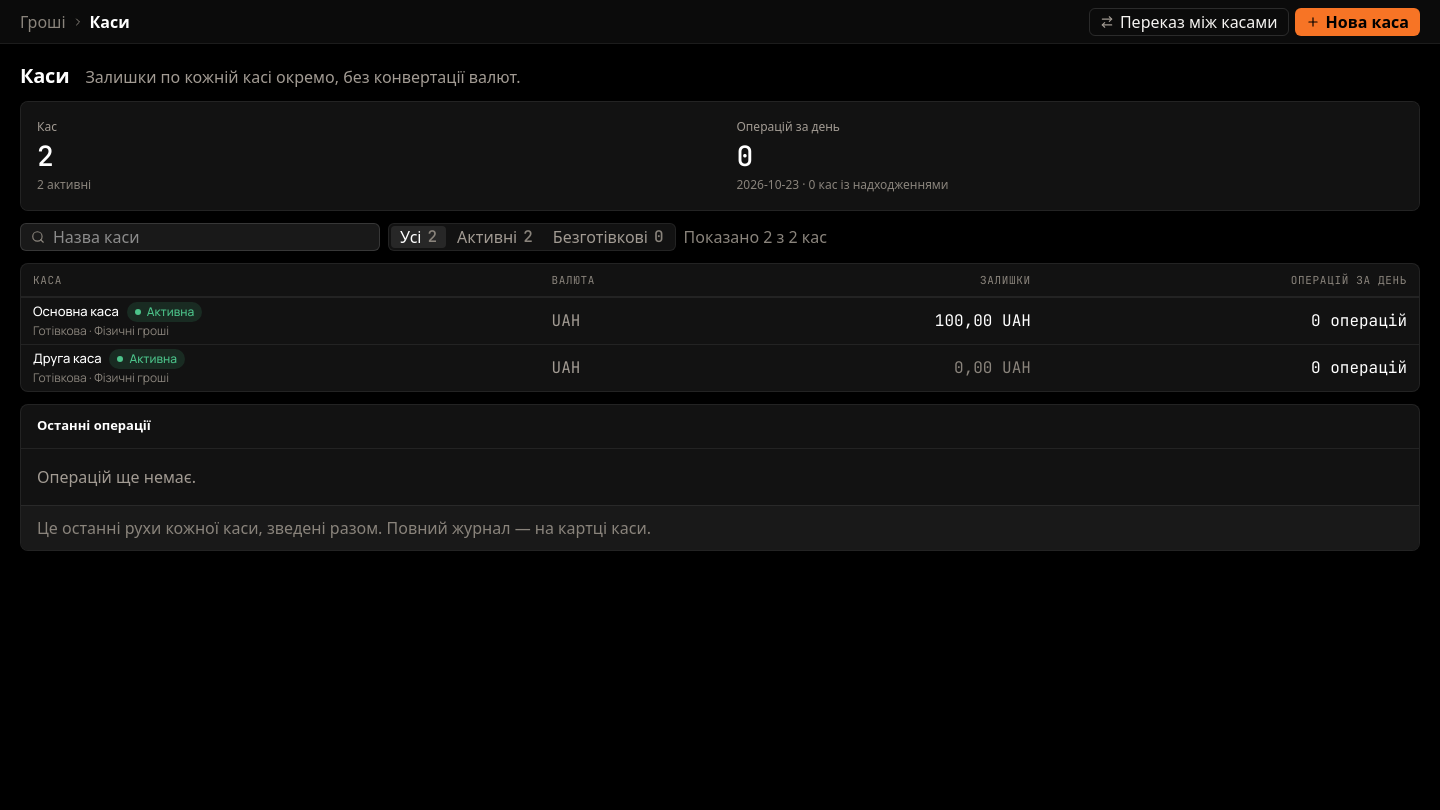
Scenario: requires equal amounts when a transfer does not convert currency
Step 1. Click the button "Переказ між касами" → (1189, 22), box [1089,8,1288,36]
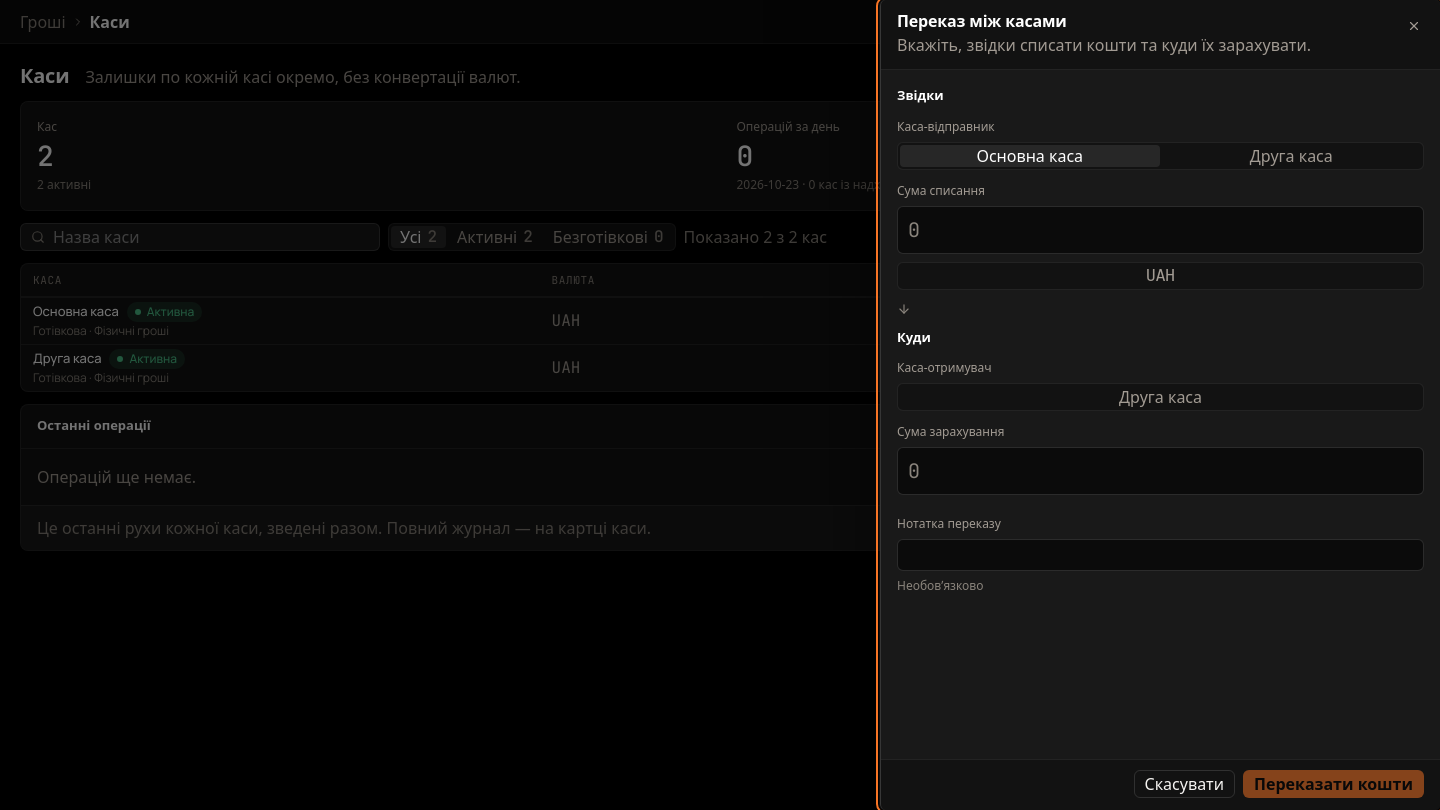
Step 2. Click the radio button labelled "Друга каса" below "Каса-отримувач" → (1202, 403), box [1119,386,1285,420]
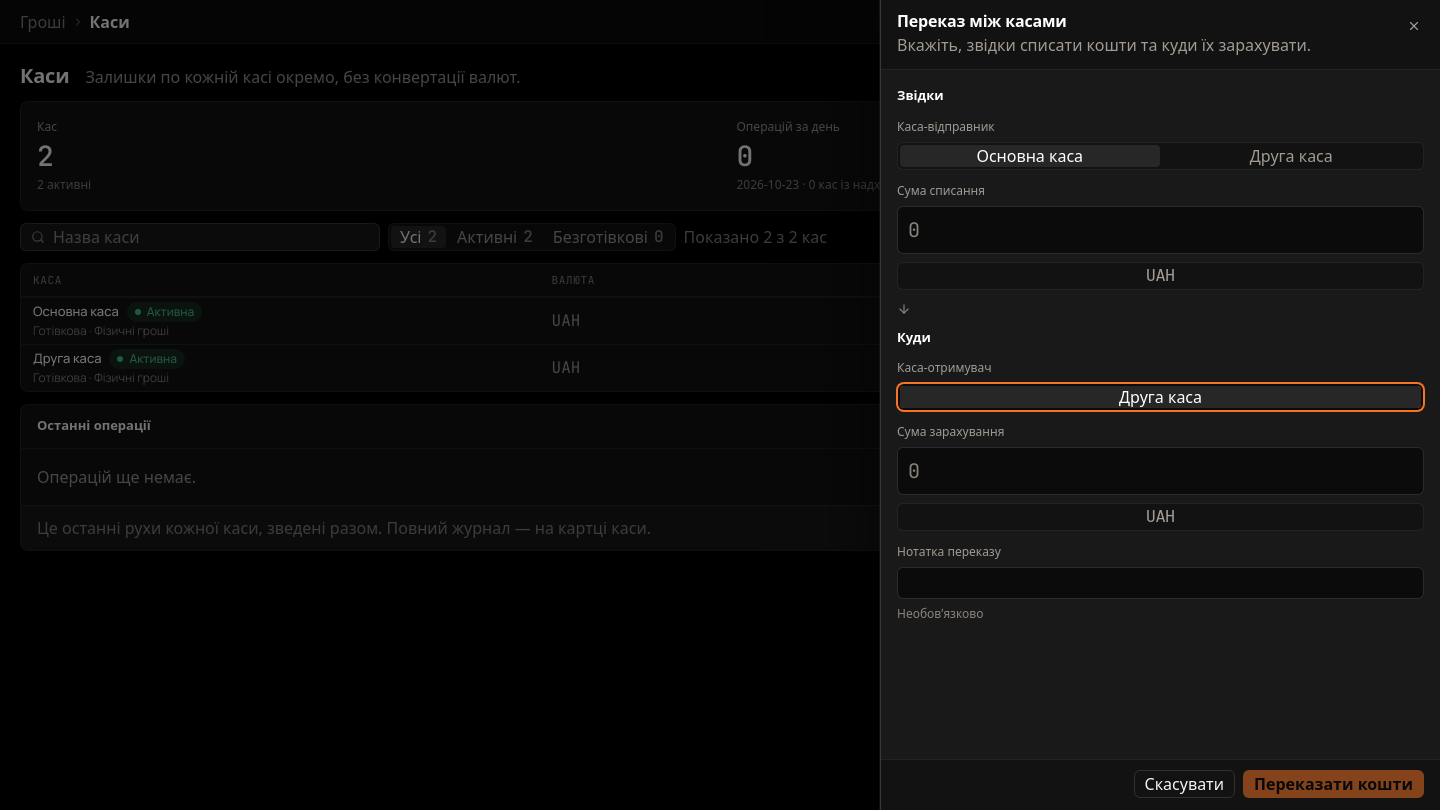
Step 3. Click the radio button labelled "UAH" below "Сума списання" → (1160, 275), box [1146,266,1175,285]
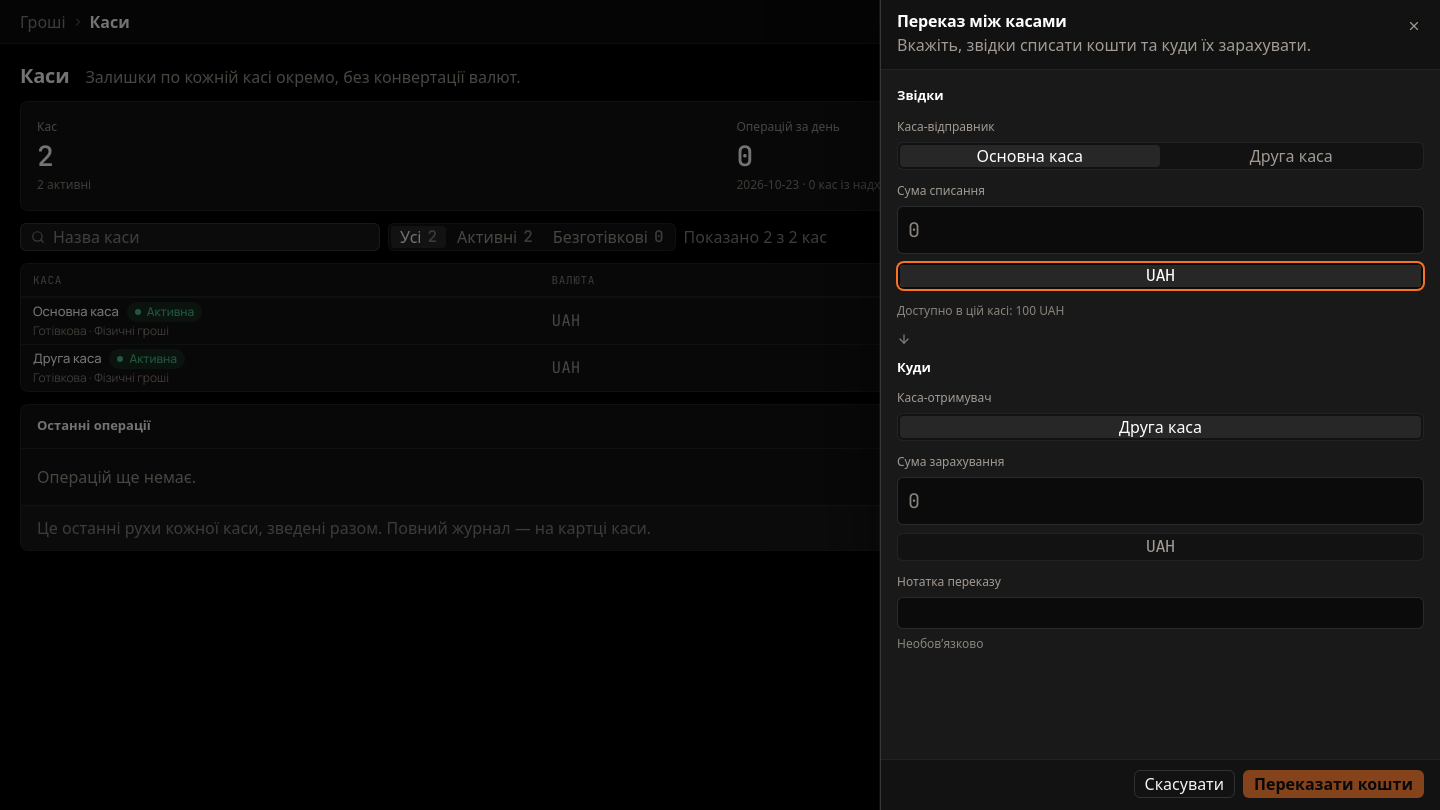
Step 4. Click the radio button labelled "UAH" below "Сума зарахування" → (1160, 547), box [1146,537,1175,556]
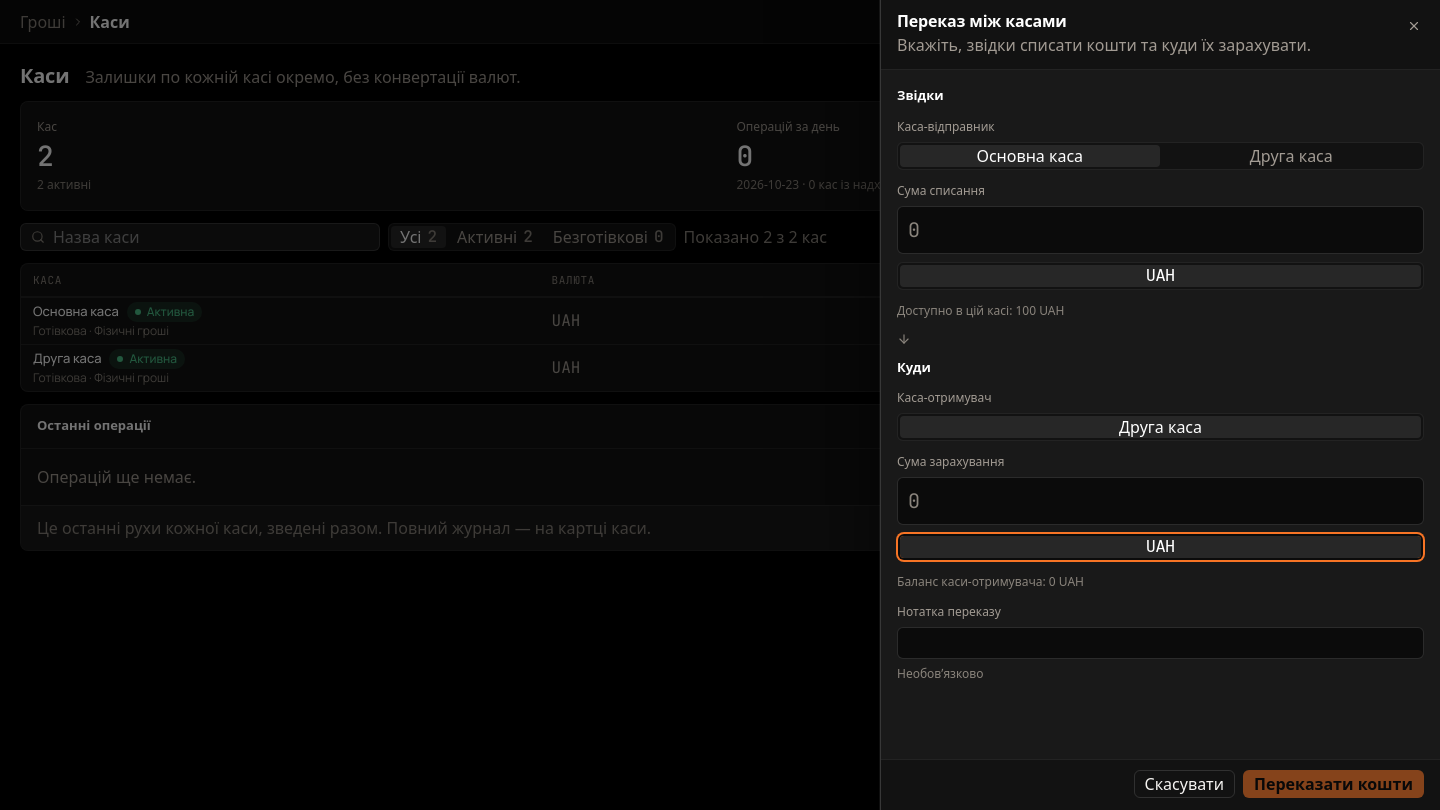
Step 5. Type "50" into the number field labelled "Сума списання" → (1160, 230), box [897,206,1424,254]
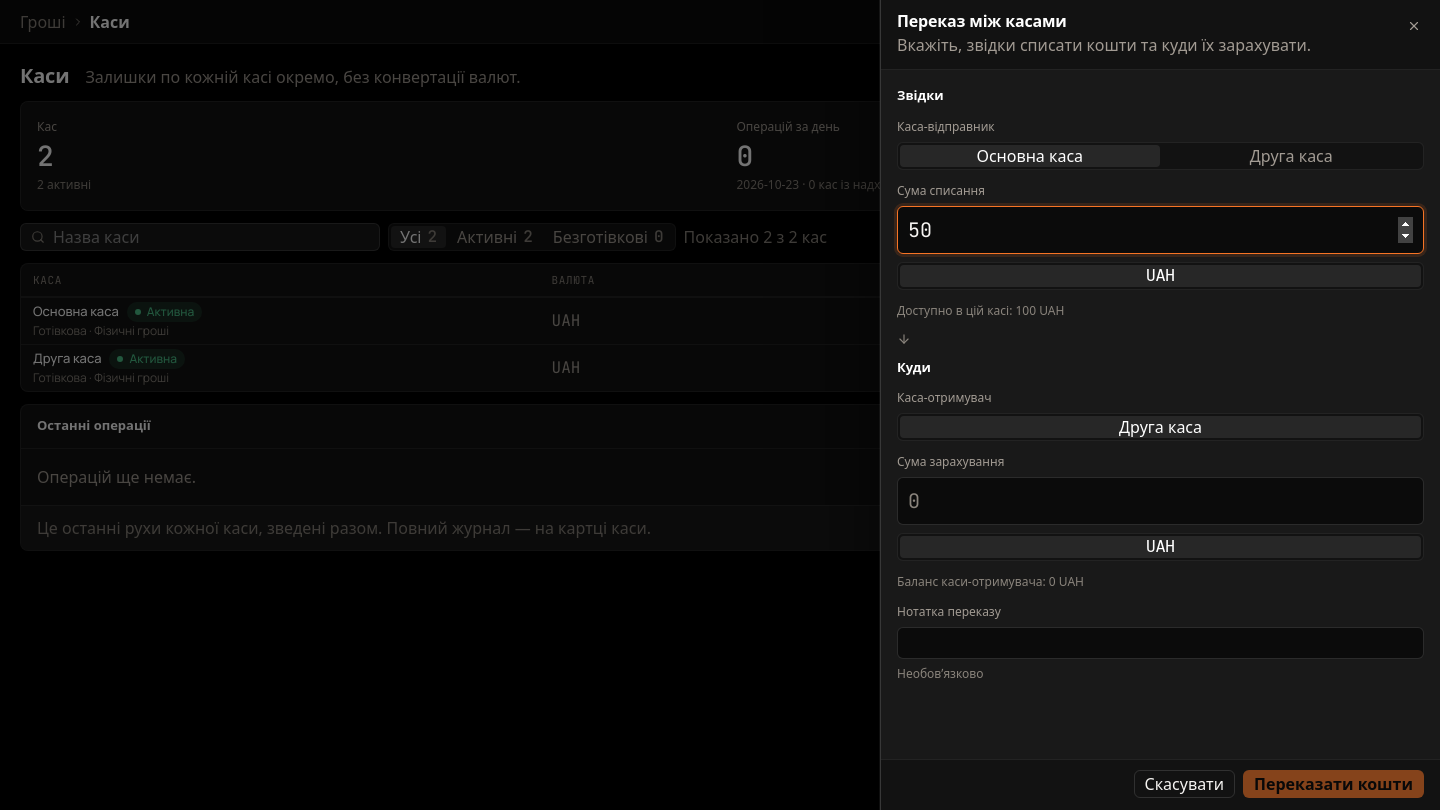
Step 6. Type "49" into the number field labelled "Сума зарахування" → (1160, 501), box [897,477,1424,525]
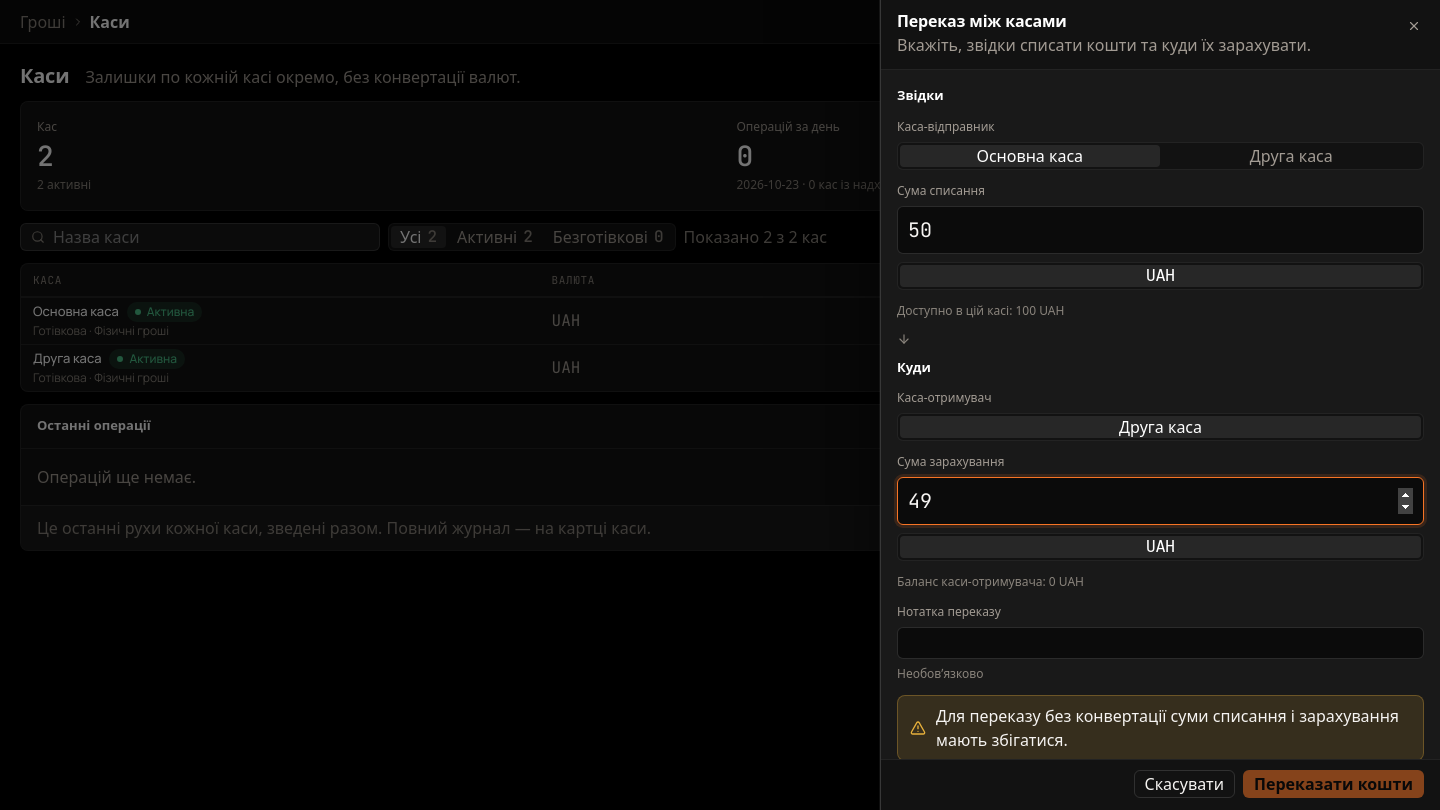
Now the button "Переказати кошти" is disabled, box [1243,770,1424,798]
Now the text "Для переказу без конвертації суми списання і зарахування мають збігатися." is shown, box [936,704,1411,752]
